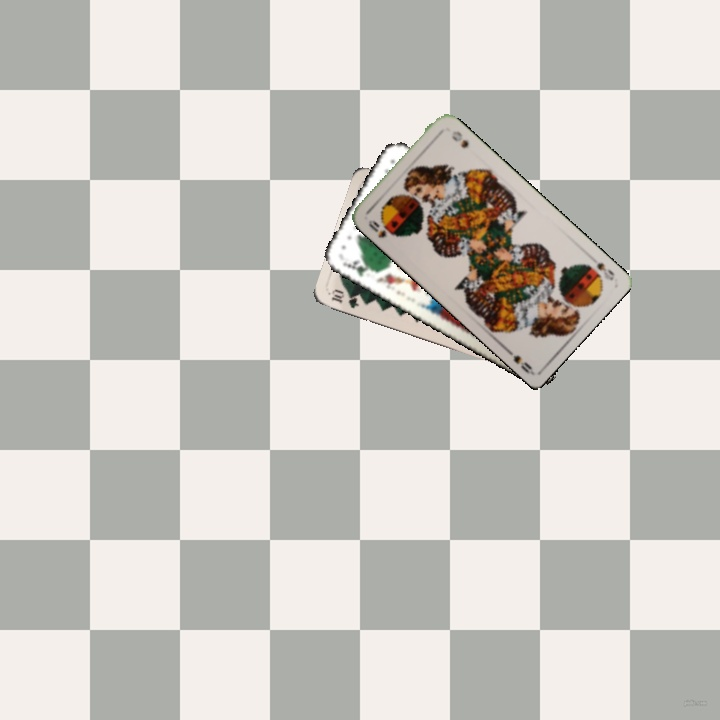G10: (327, 286, 362, 311)
GK: (339, 256, 377, 279)
SO: (364, 216, 389, 241), (593, 258, 617, 283)
